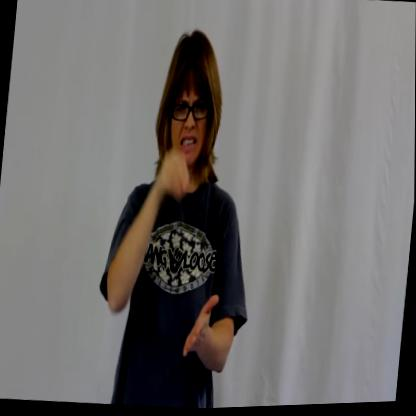Expensive: (90, 23, 273, 413)
